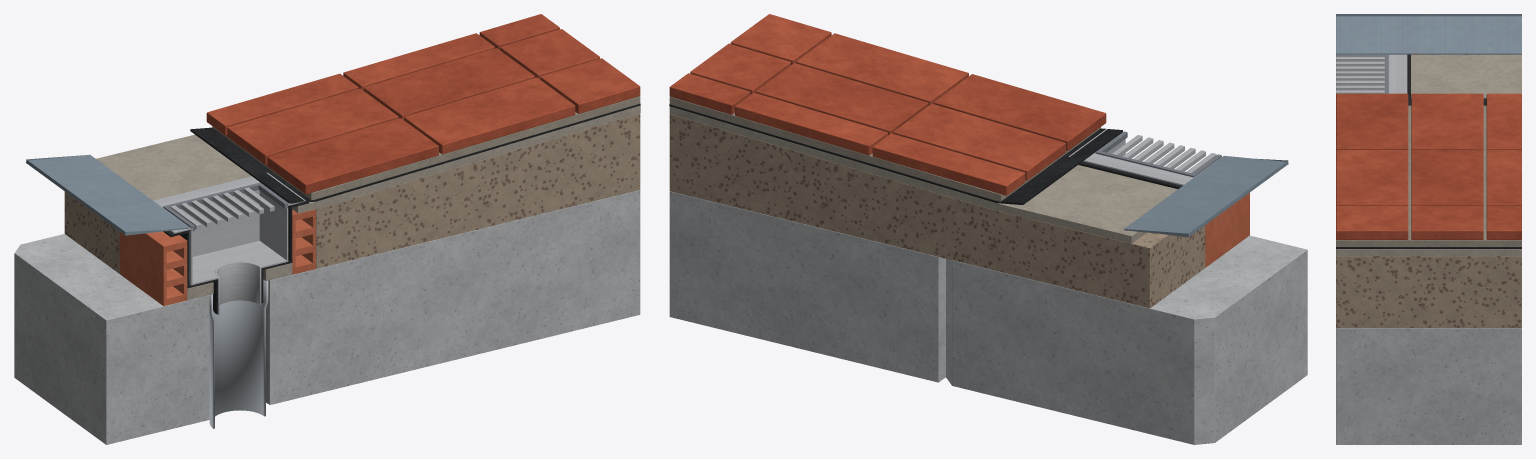
Rendered from detalle2_nte_qat16_cazoleta.glb.
The picture shows the model from 3 angles, left to right: view 1: azimuth 30°, elevation 25°; view 2: azimuth 150°, elevation 25°; view 3: azimuth 270°, elevation 25°; orthographic projection. The views are drawn at different scales.
Parts seen in each view (by area): view 1: Q16_Forjado, Q16_Rasilla, Q16_HormigonAlig, Q16_RegMortar, Q16_Cazoleta, Q16_Bajante, Q16_Flashing, Q16_PTL7_Bricks, Q16_Agarre, Q16_MembraneSup, Q16_Rejilla, Q16_MembraneInf (+1 smaller); view 2: Q16_Forjado, Q16_Rasilla, Q16_HormigonAlig, Q16_RegMortar, Q16_Flashing, Q16_MembraneSup, Q16_Agarre, Q16_Rejilla, Q16_PTL7_Bricks, Q16_Cazoleta; view 3: Q16_Rasilla, Q16_Forjado, Q16_HormigonAlig, Q16_Flashing, Q16_RegMortar, Q16_Agarre, Q16_Rejilla, Q16_Cazoleta, Q16_MembraneSup.
Part boxes in pixels (bbox=[...]): Q16_Forjado: bbox=[14, 190, 640, 444]; Q16_Rasilla: bbox=[206, 14, 640, 194]; Q16_HormigonAlig: bbox=[64, 113, 640, 273]; Q16_RegMortar: bbox=[96, 105, 640, 213]; Q16_Cazoleta: bbox=[153, 172, 305, 315]; Q16_Bajante: bbox=[209, 279, 268, 428]; Q16_Flashing: bbox=[26, 154, 189, 235]; Q16_PTL7_Bricks: bbox=[119, 209, 315, 306]; Q16_Agarre: bbox=[212, 96, 640, 200]; Q16_MembraneSup: bbox=[190, 103, 640, 203]; Q16_Rejilla: bbox=[163, 182, 288, 230]; Q16_MembraneInf: bbox=[163, 202, 308, 314]; Q16_Forjado: bbox=[669, 191, 1307, 444]; Q16_Rasilla: bbox=[669, 14, 1106, 195]; Q16_HormigonAlig: bbox=[669, 114, 1205, 308]; Q16_RegMortar: bbox=[669, 106, 1177, 243]; Q16_Flashing: bbox=[1124, 155, 1288, 237]; Q16_MembraneSup: bbox=[669, 104, 1122, 204]; Q16_Agarre: bbox=[669, 96, 1100, 201]; Q16_Rejilla: bbox=[1095, 131, 1221, 177]; Q16_PTL7_Bricks: bbox=[1205, 192, 1249, 267]; Q16_Cazoleta: bbox=[1068, 129, 1221, 185]; Q16_Rasilla: bbox=[1336, 93, 1521, 239]; Q16_Forjado: bbox=[1336, 328, 1521, 444]; Q16_HormigonAlig: bbox=[1336, 54, 1521, 327]; Q16_Flashing: bbox=[1336, 14, 1521, 54]; Q16_RegMortar: bbox=[1336, 55, 1521, 255]; Q16_Agarre: bbox=[1336, 105, 1521, 246]; Q16_Rejilla: bbox=[1336, 54, 1388, 93]; Q16_Cazoleta: bbox=[1388, 54, 1407, 93]; Q16_MembraneSup: bbox=[1336, 98, 1521, 248].
Bounding box in the file's own units: 1.12 × 0.4779 × 0.36.
Materials: 12 (11 with a texture image).
